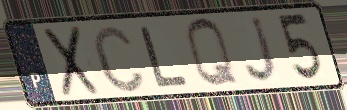5: (276, 10, 324, 84)
C: (88, 22, 148, 95)
J: (243, 14, 281, 86)
L: (138, 24, 192, 89)
Q: (184, 15, 242, 91)
X: (41, 23, 102, 100)
